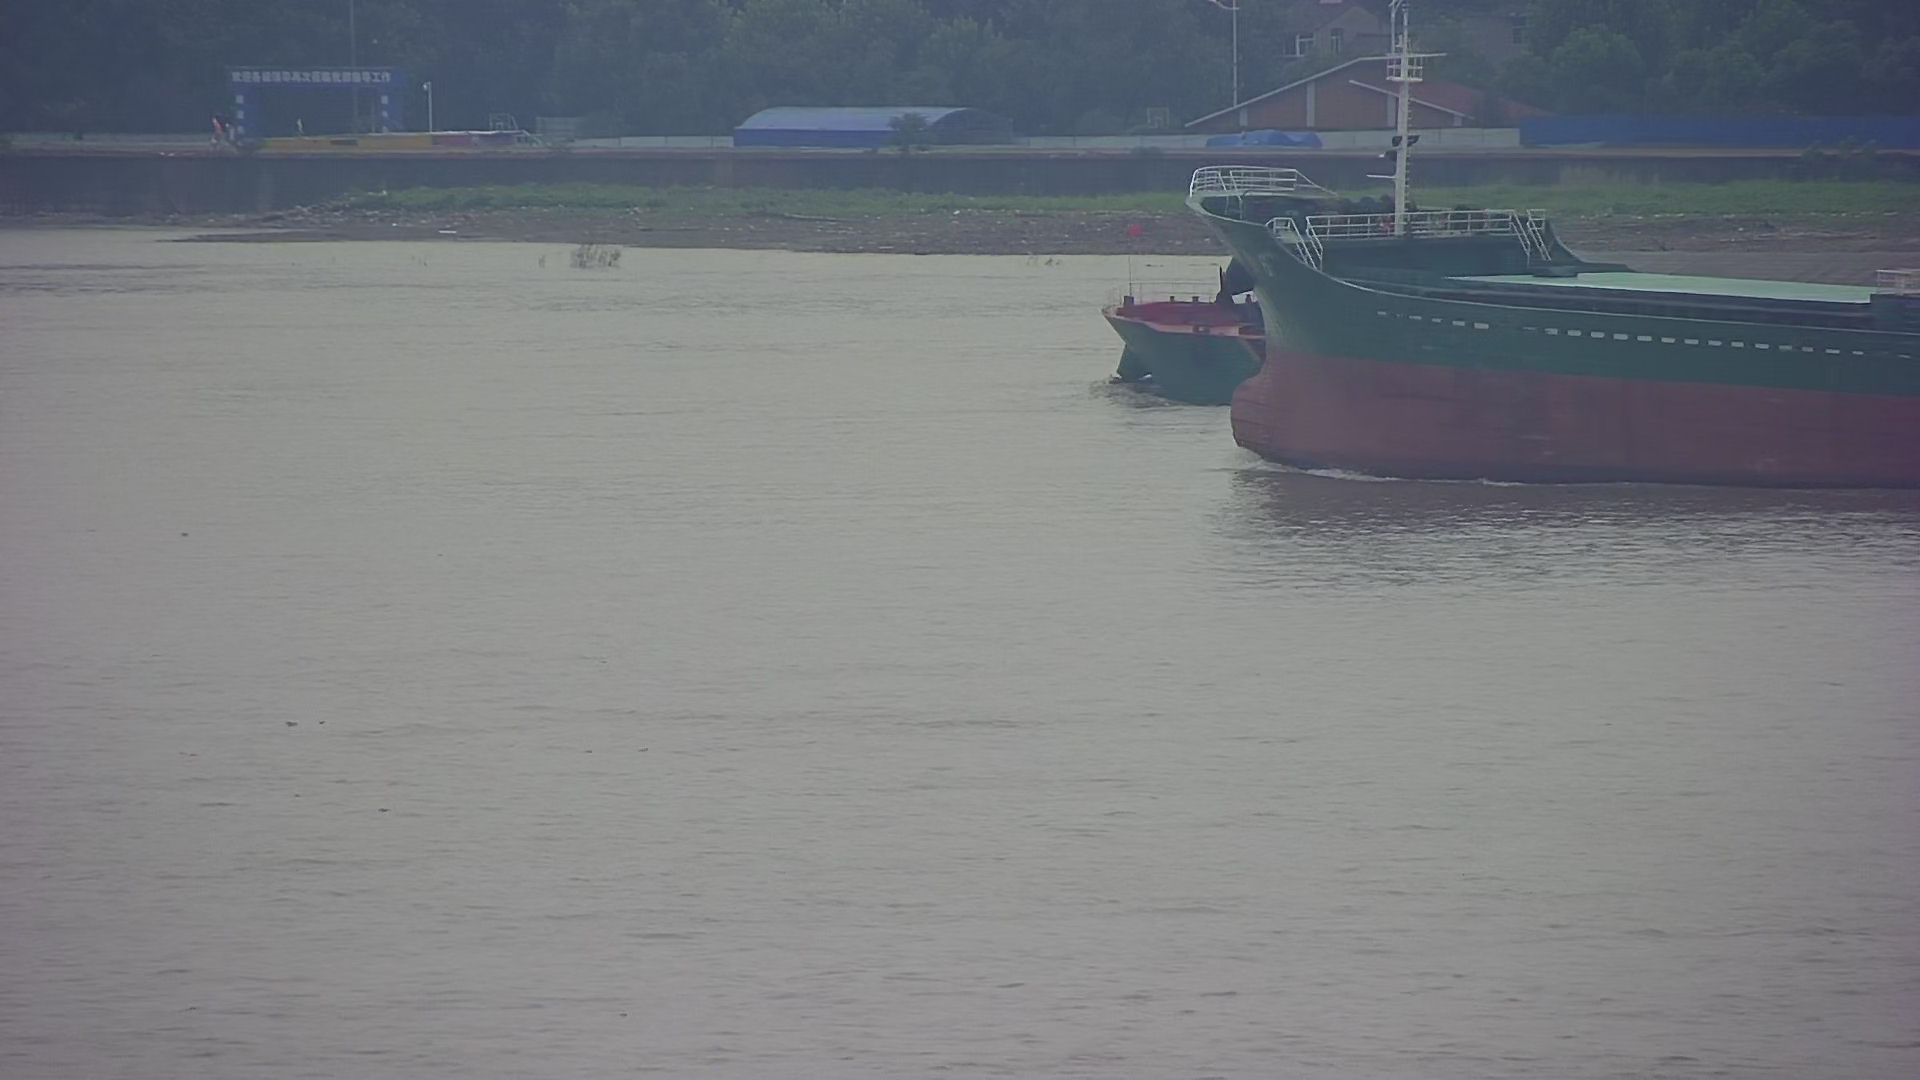ship: (1189, 13, 1920, 495), (1098, 220, 1920, 436)
